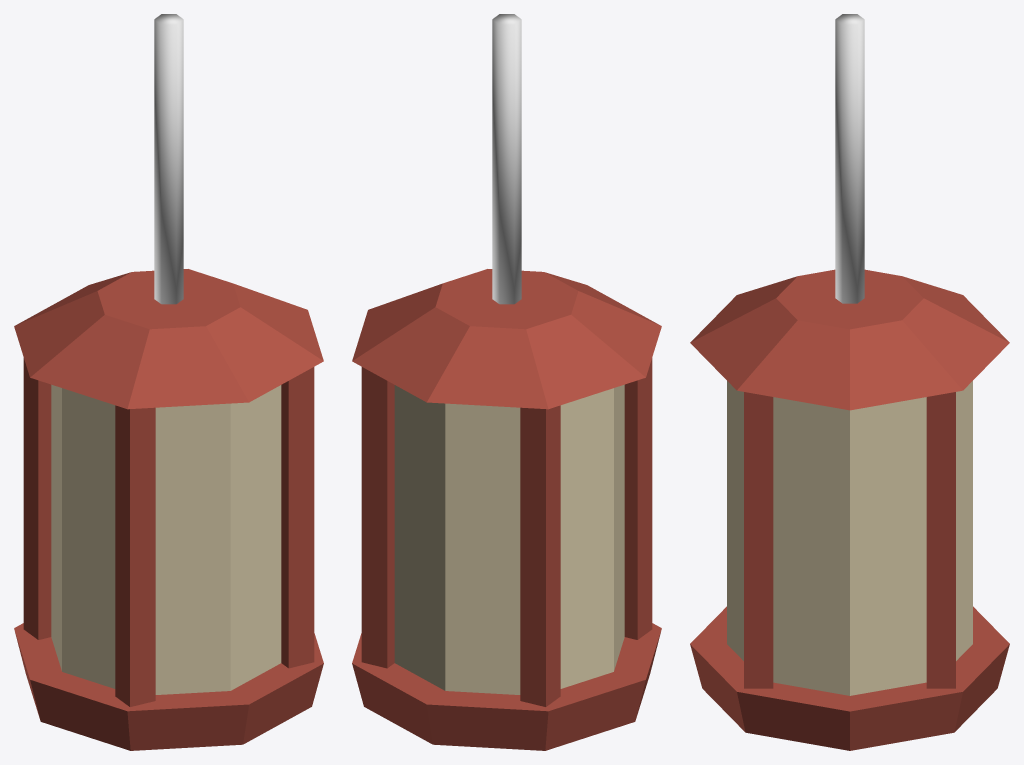
Rendered from rich_mahogany_lantern_v0.glb.
3 views of the same model, side by side, from view 1: azimuth 30°, elevation 25°; view 2: azimuth 150°, elevation 25°; view 3: azimuth 270°, elevation 25° (orthographic).
Visible parts, largest first — view 1: rich_mahogany_lantern_v0; view 2: rich_mahogany_lantern_v0; view 3: rich_mahogany_lantern_v0.
Boxes of the visible parts, x1,y1,x2,y2 form: rich_mahogany_lantern_v0: (14, 14, 323, 750); rich_mahogany_lantern_v0: (352, 14, 661, 750); rich_mahogany_lantern_v0: (690, 14, 1009, 750).
Size of the model in its own units: 0.26 by 0.6 by 0.26.
